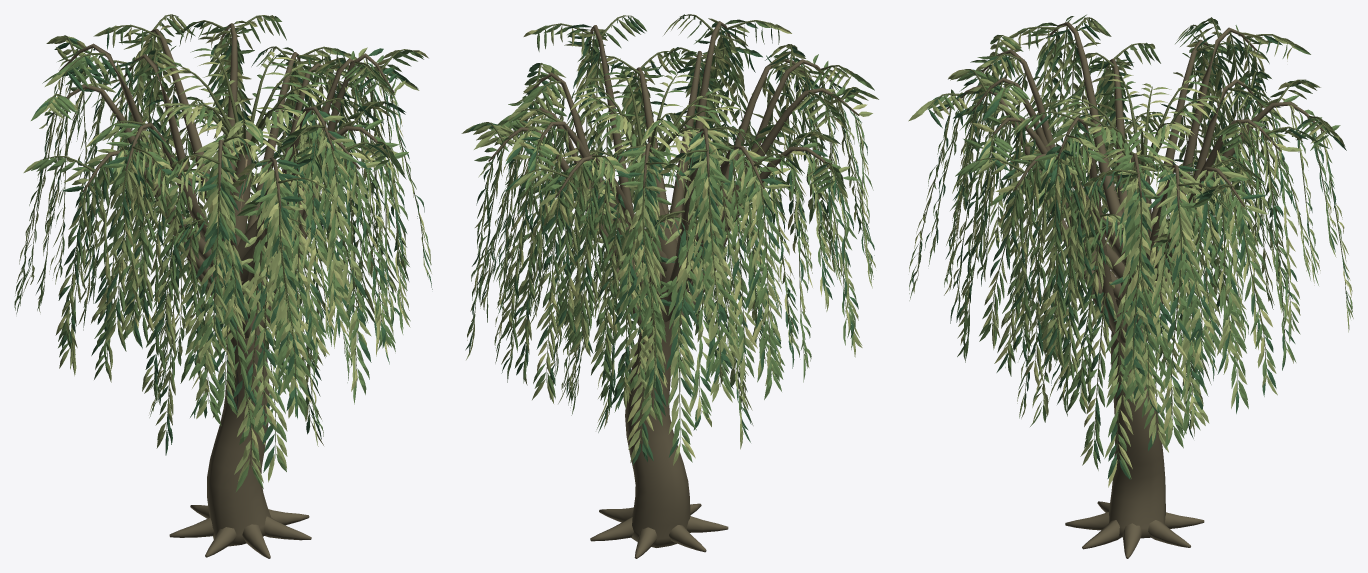
Rendered from willow.glb.
3 renders of one model, left to right at view 1: azimuth 30°, elevation 25°; view 2: azimuth 150°, elevation 25°; view 3: azimuth 270°, elevation 25°, orthographic. The views are drawn at different scales.
Visible parts, largest first — view 1: willow; view 2: willow; view 3: willow.
Boxes of the visible parts, x1,y1,x2,y2 form: willow: (14, 14, 432, 558); willow: (461, 14, 878, 558); willow: (908, 14, 1353, 558).
Bounding box in the file's own units: 4.11 × 5.08 × 4.44.
1 material, 1 textured.
